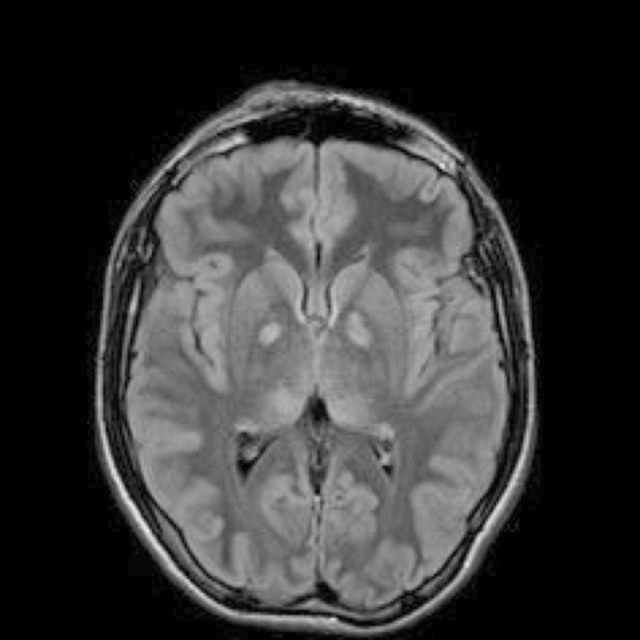glioma tumor: (168, 169, 453, 562)
